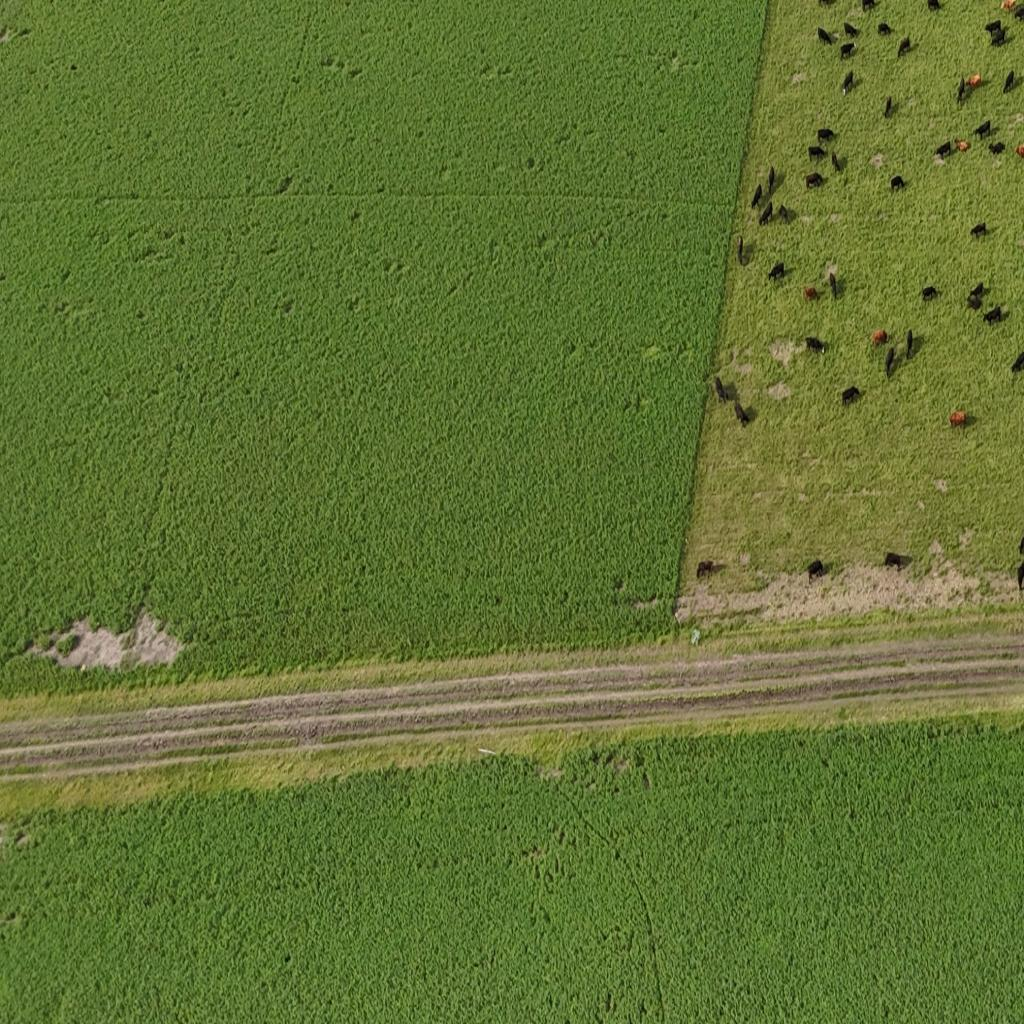cow: (880, 543, 908, 571), (715, 376, 729, 406), (758, 201, 774, 227), (841, 386, 861, 406), (972, 120, 992, 140), (805, 336, 826, 355), (807, 559, 824, 582), (734, 401, 749, 427), (696, 560, 716, 579), (983, 306, 1003, 324), (985, 20, 1003, 40), (885, 345, 895, 379), (768, 262, 784, 283), (805, 172, 823, 190), (818, 26, 834, 46), (750, 184, 762, 210), (898, 36, 912, 58), (921, 285, 938, 302), (935, 141, 952, 158), (970, 222, 988, 238), (1004, 70, 1016, 94), (818, 128, 836, 144), (842, 71, 853, 97), (890, 175, 906, 192), (949, 411, 966, 427), (968, 282, 984, 299), (967, 294, 982, 312), (872, 328, 887, 346), (840, 42, 855, 60), (808, 145, 826, 160), (844, 22, 860, 38), (804, 286, 819, 303), (957, 77, 966, 105), (778, 205, 791, 224), (990, 141, 1006, 156), (829, 271, 837, 301), (998, 27, 1010, 47), (877, 22, 892, 36), (968, 73, 982, 88), (862, 0, 878, 13), (1001, 0, 1017, 13), (906, 328, 913, 357), (955, 139, 969, 153), (768, 166, 775, 194), (1016, 349, 1024, 373), (832, 151, 840, 173), (737, 235, 743, 264), (884, 96, 892, 117), (926, 0, 940, 12), (1019, 559, 1024, 592), (818, 0, 836, 8), (1018, 5, 1024, 22), (1018, 144, 1024, 158), (1021, 534, 1024, 556)
